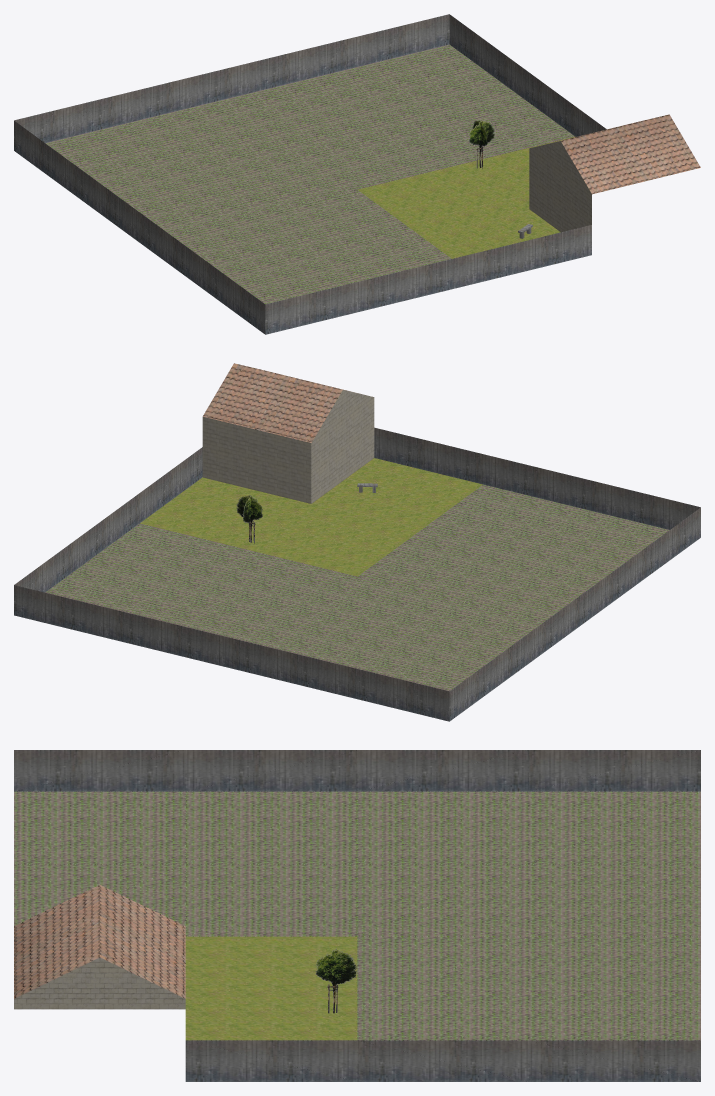
File: darkvamp_map.FBX
3 views of the same model, one above another, from view 1: azimuth 30°, elevation 25°; view 2: azimuth 150°, elevation 25°; view 3: azimuth 270°, elevation 25° (orthographic). The views are drawn at different scales.
Parts seen in each view (by area): view 1: darkvamp_map, dv_tree; view 2: darkvamp_map, dv_tree; view 3: darkvamp_map, dv_tree.
Boxes of the visible parts, bbox=[...] form: darkvamp_map: bbox=[14, 14, 700, 334]; dv_tree: bbox=[468, 120, 495, 168]; darkvamp_map: bbox=[14, 363, 700, 721]; dv_tree: bbox=[236, 495, 262, 543]; darkvamp_map: bbox=[14, 750, 700, 1081]; dv_tree: bbox=[315, 948, 358, 1013].
Bounding box in the file's own units: 150 × 150 × 30.65.
6 materials, 6 textured.
